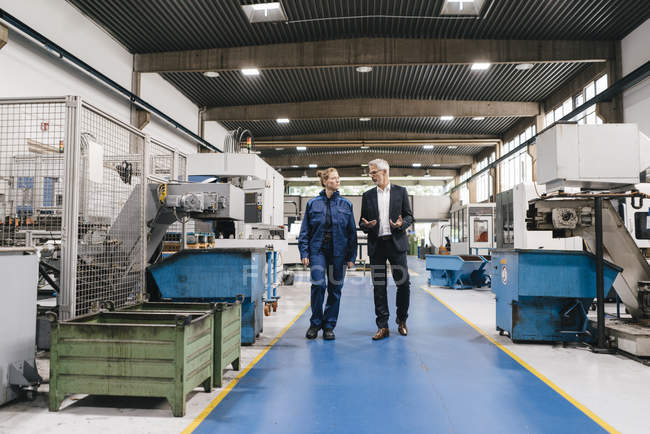person: (358, 160, 416, 339), (300, 167, 358, 338)
